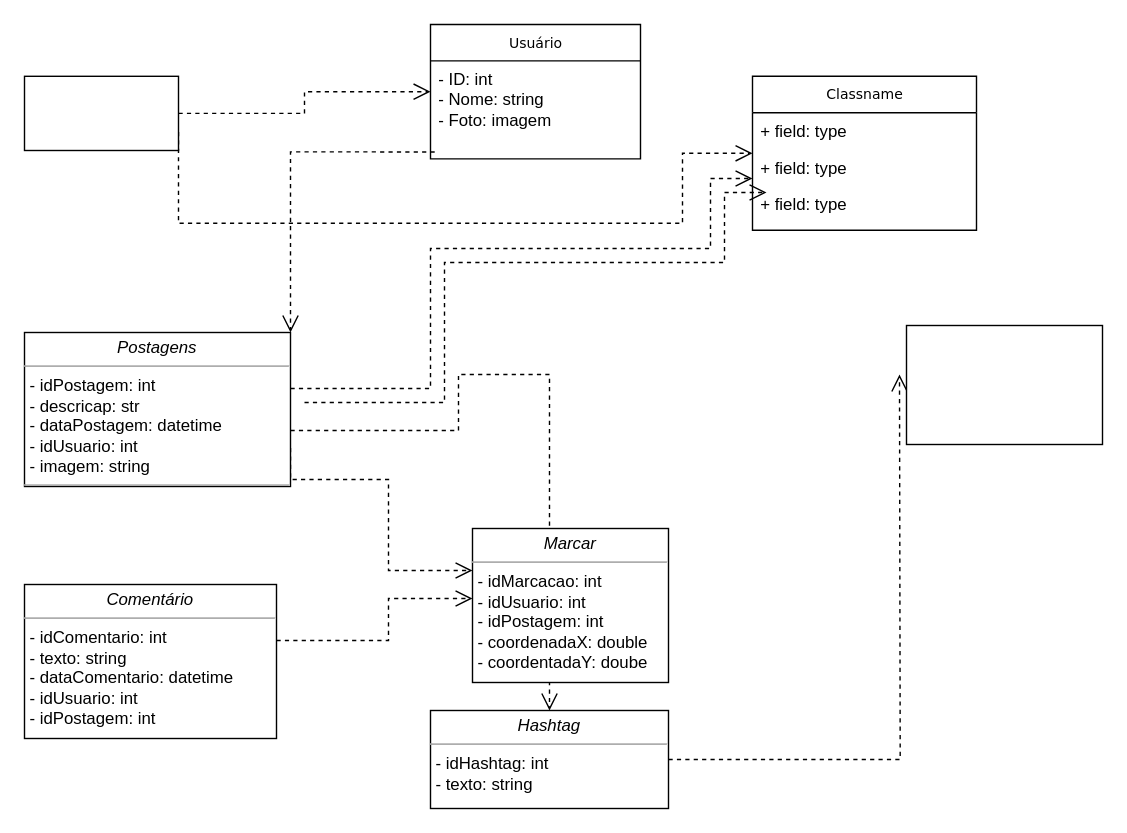
Some shapes in this 1127 by 833 pixel diagram are drawn without their labels. The centre of each missing label's shape, as x and y in pixels:
"Edital Modelo Instagram" belongs at point 100,112.
"Seguir - idSeguir: int - idSeguido: int - idSeguidor: int" belongs at point 1003,384.
